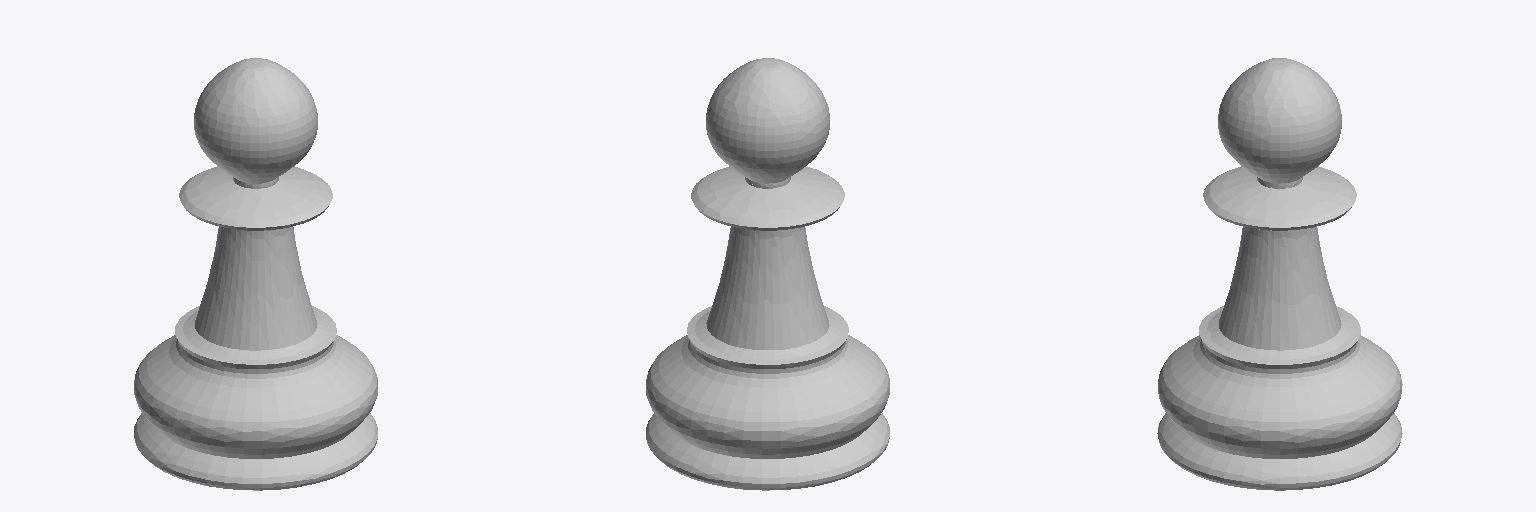
File: pawn.obj
3 renders of one model, left to right at view 1: azimuth 30°, elevation 25°; view 2: azimuth 150°, elevation 25°; view 3: azimuth 270°, elevation 25°, orthographic.
Parts seen in each view (by area): view 1: pawn; view 2: pawn; view 3: pawn.
Boxes of the visible parts, <box> form: pawn: <box>134,58,377,490</box>; pawn: <box>646,58,889,490</box>; pawn: <box>1157,58,1402,490</box>.
Size of the model in its own units: 0.9601 by 1.66 by 0.9597.